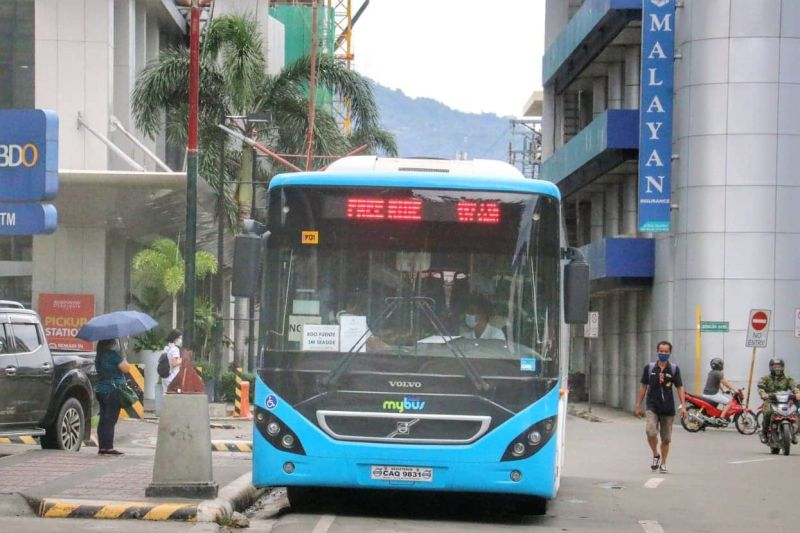bike: (684, 387, 759, 436), (762, 391, 800, 451)
bus: (268, 153, 560, 516)
car: (1, 302, 89, 452)
person: (636, 340, 686, 475), (85, 319, 133, 457), (705, 360, 735, 421), (760, 359, 800, 393)
pole: (154, 1, 218, 500), (696, 305, 700, 389)
